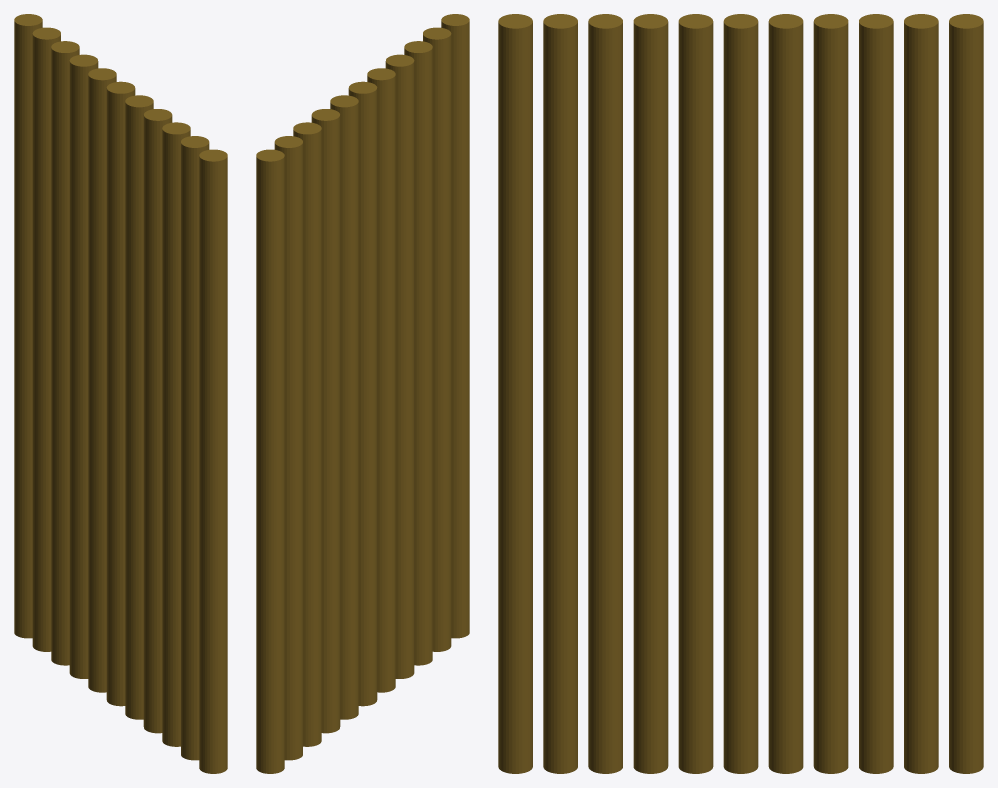
The model's file is Grade_Areia.fbx.
3 views of the same model, side by side, from view 1: azimuth 30°, elevation 25°; view 2: azimuth 150°, elevation 25°; view 3: azimuth 270°, elevation 25° (orthographic). The views are drawn at different scales.
Visible parts, largest first — view 1: Grade_Areia; view 2: Grade_Areia; view 3: Grade_Areia.
Part boxes in pixels (bbox=[...]): Grade_Areia: bbox=[14, 14, 227, 773]; Grade_Areia: bbox=[256, 14, 469, 773]; Grade_Areia: bbox=[498, 14, 983, 773].
Size of the model in its own units: 100 by 2372 by 1400.
